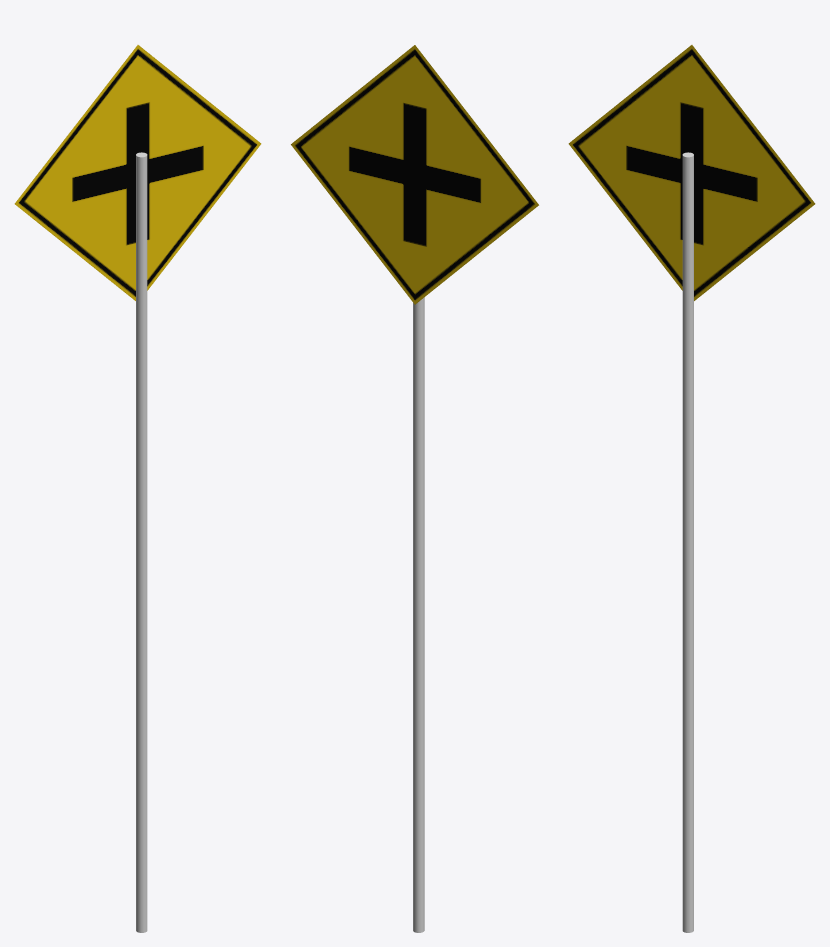
The model's file is simpang 4.fbx.
3 views of the same model, side by side, from view 1: azimuth 30°, elevation 25°; view 2: azimuth 150°, elevation 25°; view 3: azimuth 330°, elevation 25° (orthographic).
Visible parts, largest first — view 1: Plane, Cylinder; view 2: Plane, Cylinder; view 3: Plane, Cylinder.
Boxes of the visible parts, x1=… form: Plane: x1=14, y1=45, x2=261, y2=300; Cylinder: x1=136, y1=152, x2=147, y2=932; Plane: x1=291, y1=45, x2=538, y2=304; Cylinder: x1=413, y1=297, x2=424, y2=932; Plane: x1=568, y1=45, x2=815, y2=300; Cylinder: x1=682, y1=152, x2=693, y2=932.
Size of the model in its own units: 200 by 682 by 9.27.
